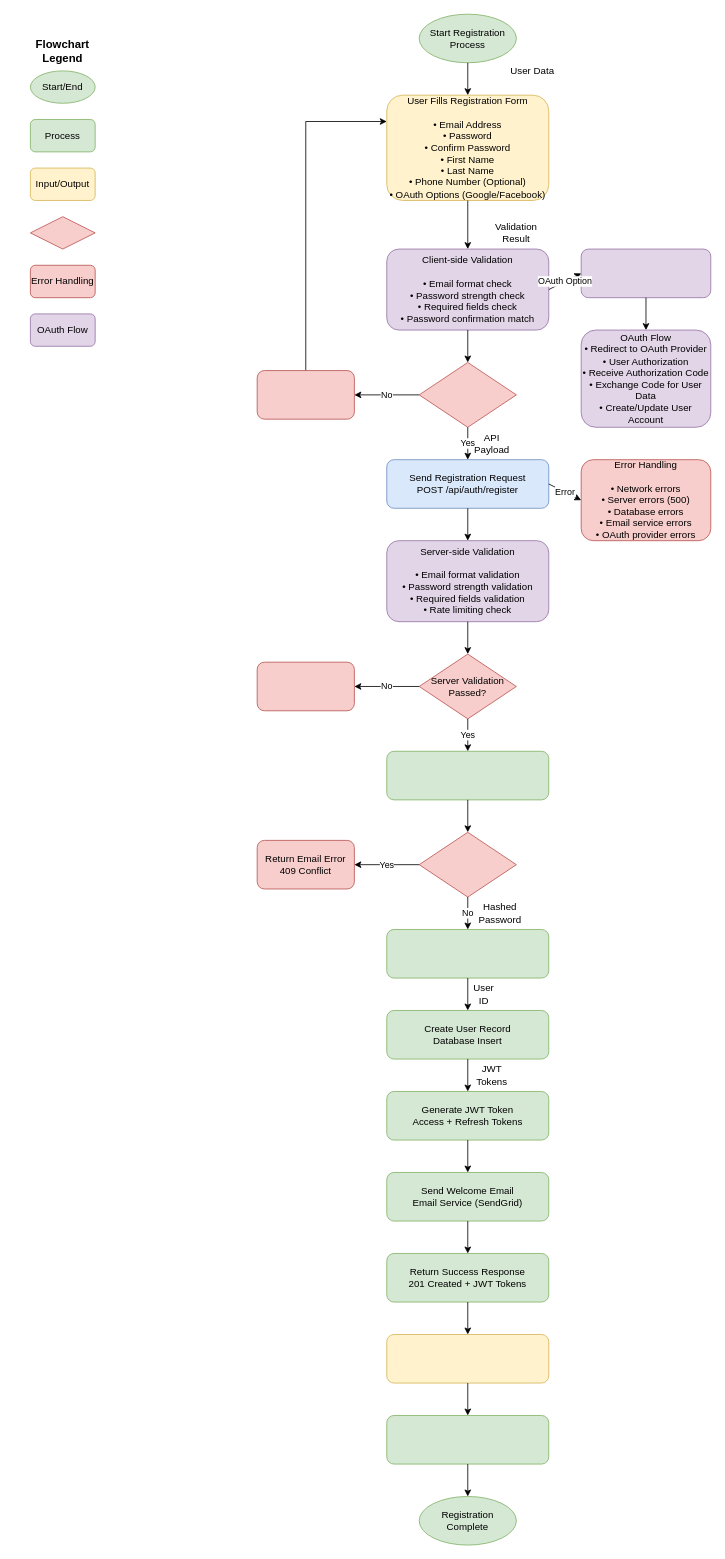
This 725x1559 diagram has some shape labels left out. Here are the shapes that lost their labels. From the top down, the centre of each, then its label:
At pixel 62 232: "Decision".
At pixel 645 273: "OAuth Registration (Google/Facebook)".
At pixel 305 394: "Display Error Message Return to Form".
At pixel 467 394: "Validation Passed?".
At pixel 305 686: "Return Validation Error 400 Bad Request".
At pixel 467 775: "Check if Email Already Exists Database Query".
At pixel 467 864: "Email Already Exists?".
At pixel 467 953: "Hash Password bcrypt/Argon2".
At pixel 467 1358: "Store Tokens in Client Local Storage/Cookies".
At pixel 467 1439: "Redirect to Dashboard User Logged In".
